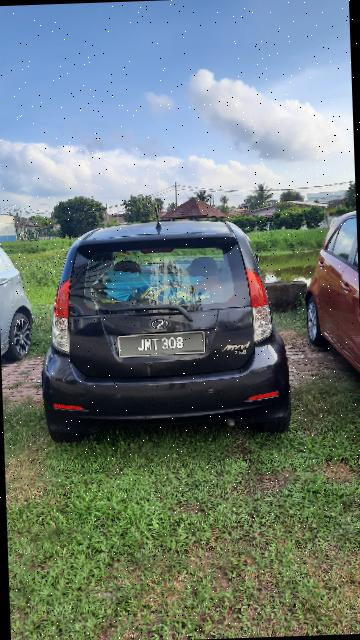License_Plate: (115, 325, 217, 372)
car: (40, 214, 291, 441)
